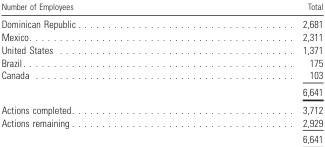table: (0, 1, 322, 144)
table column: (0, 1, 188, 144), (188, 1, 322, 144)
table column header: (0, 1, 322, 14)
table row: (0, 82, 322, 100), (0, 14, 322, 29), (0, 100, 322, 115), (0, 115, 322, 130), (0, 68, 322, 82), (0, 130, 322, 144), (0, 1, 322, 14), (0, 29, 322, 42), (0, 42, 322, 55), (0, 55, 322, 68)
